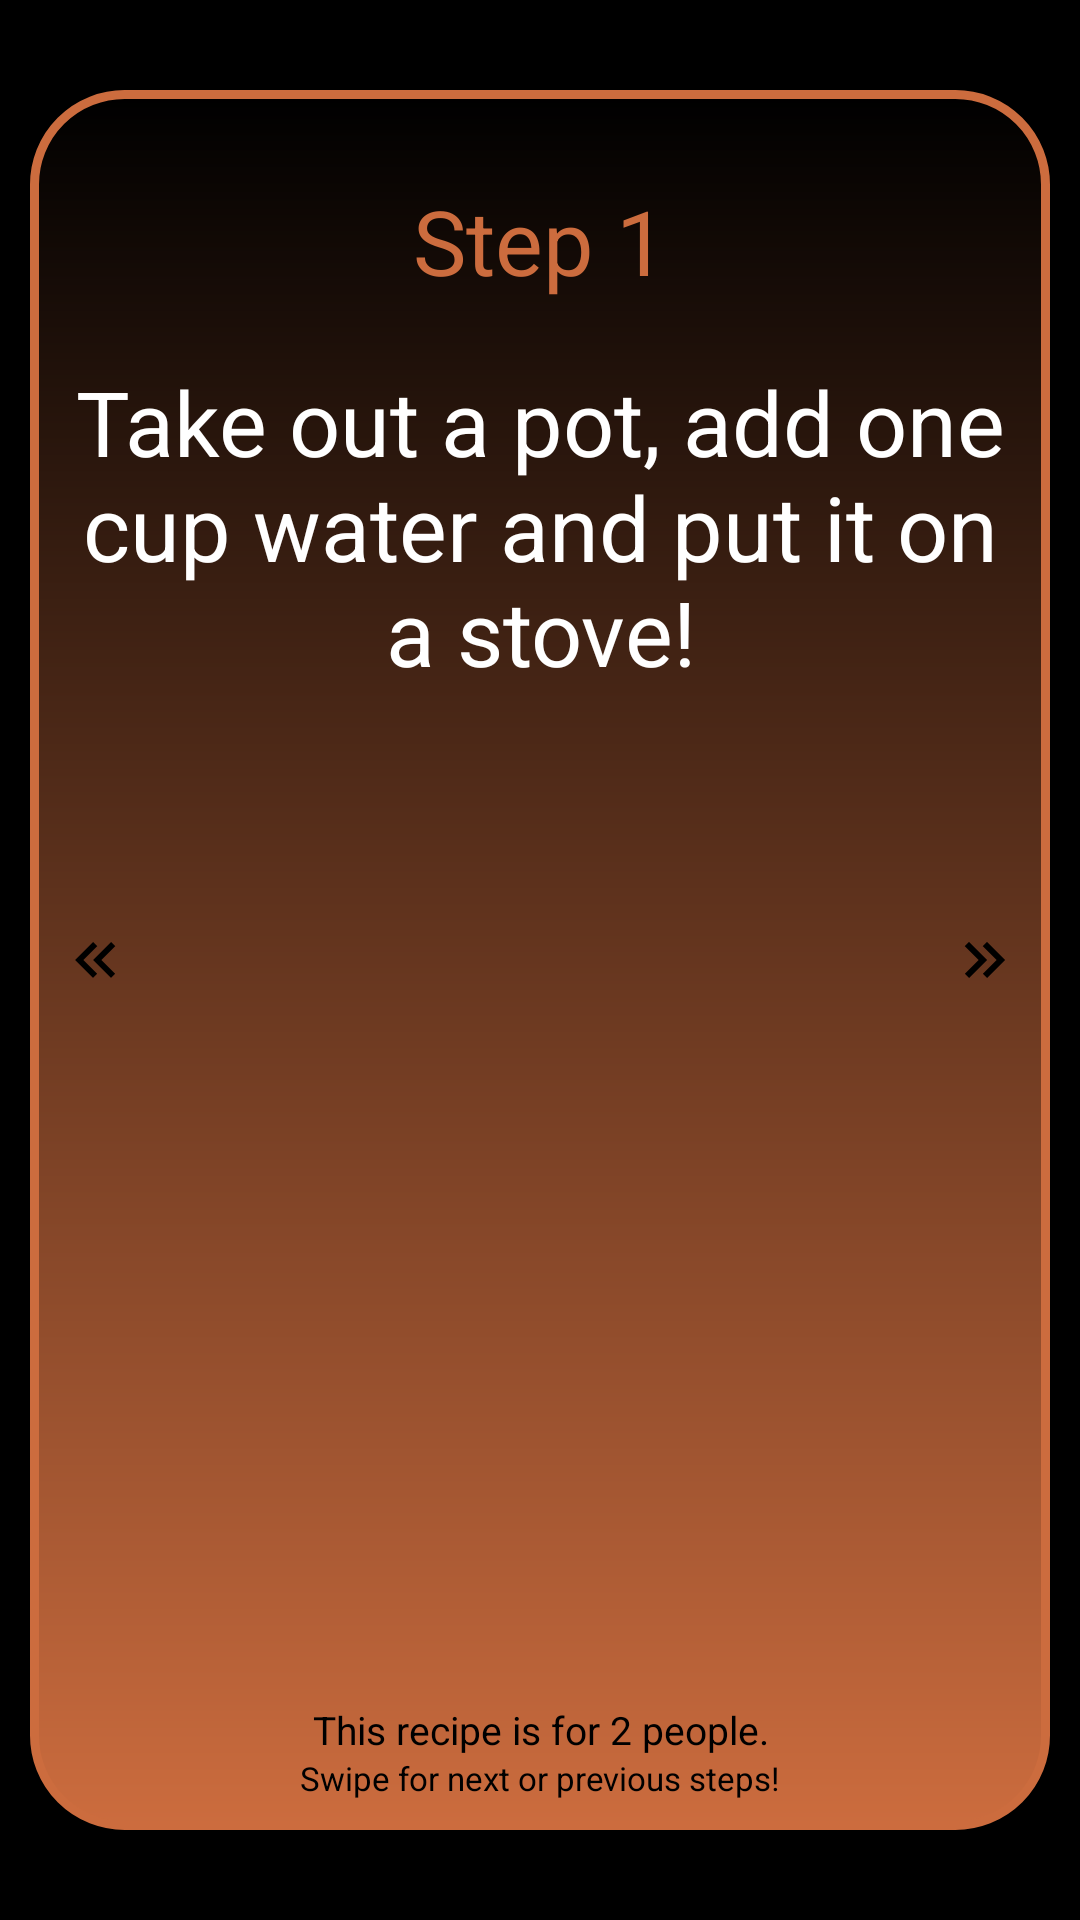

Screen size 1080x1920. Icon name, then its box in pixels as rect(x1, y1, x2, y2):
chevron double left: rect(75, 942, 115, 978)
chevron double right: rect(965, 942, 1005, 978)
